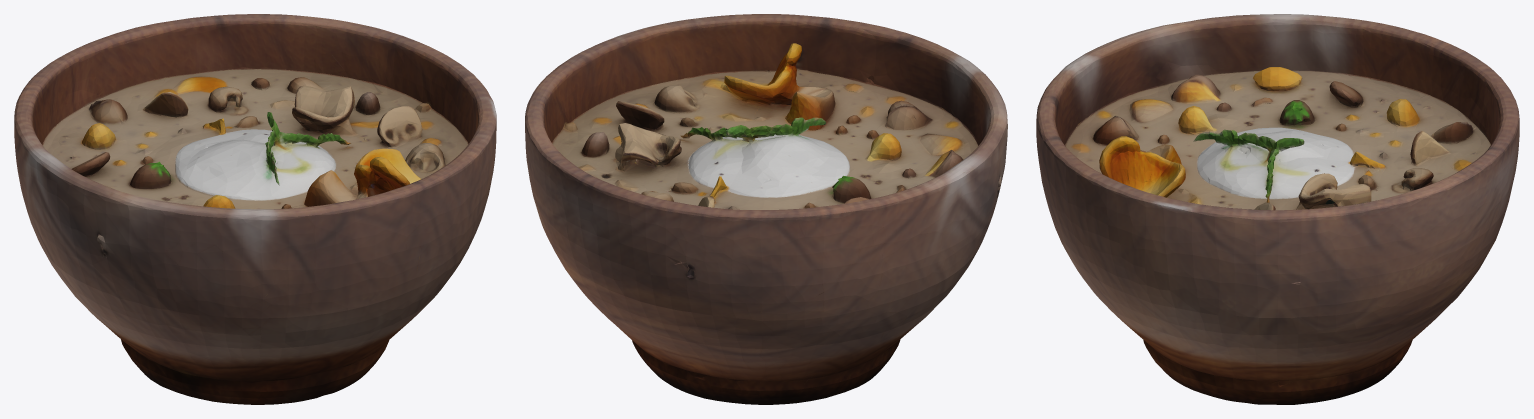
The model's file is MushroomSoup.glb.
3 renders of one model, left to right at view 1: azimuth 30°, elevation 25°; view 2: azimuth 150°, elevation 25°; view 3: azimuth 270°, elevation 25°, orthographic.
Parts seen in each view (by area): view 1: world; view 2: world; view 3: world.
Boxes of the visible parts, box(x1,y1,x2,y2) form: world: box(14, 14, 496, 404); world: box(525, 14, 1007, 404); world: box(1036, 14, 1519, 404).
Size of the model in its own units: 0.9989 by 0.553 by 0.9986.
Materials: 1 (1 with a texture image).
